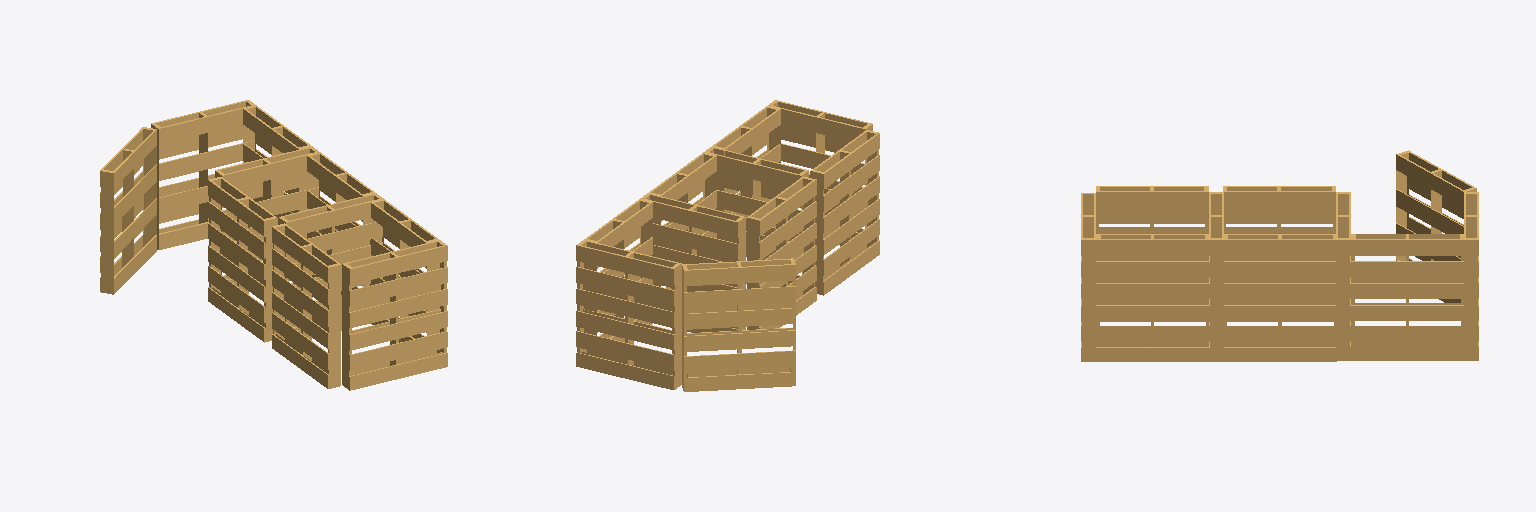
The model's file is compostboxes1.obj.
The picture shows the model from 3 angles: view 1: azimuth 30°, elevation 25°; view 2: azimuth 150°, elevation 25°; view 3: azimuth 270°, elevation 25°; orthographic projection.
Visible parts, largest first — view 1: Mesh2 pallet1975_06_21_12_24_09__0600_2 Compost_Bins1 Model, Mesh3 pallet1975_06_21_12_24_09__0600_3 Compost_Bins1 Model, Mesh6 pallet1975_06_21_12_24_09__0600_6 Compost_Bins1 Model, Mesh10 pallet1975_06_21_12_24_09__0600_10 Compost_Bins1 Model, Mesh9 pallet1975_06_21_12_24_09__0600_9 Compost_Bins1 Model, Mesh4 pallet1975_06_21_12_24_09__0600_4 Compost_Bins1 Model, Mesh7 pallet1975_06_21_12_24_09__0600_7 Compost_Bins1 Model, Mesh1 pallet1975_06_21_12_24_09__0600_1 Compost_Bins1 Model, Mesh5 pallet1975_06_21_12_24_09__0600_5 Compost_Bins1 Model, Mesh8 pallet1975_06_21_12_24_09__0600_8 Compost_Bins1 Model; view 2: Mesh9 pallet1975_06_21_12_24_09__0600_9 Compost_Bins1 Model, Mesh10 pallet1975_06_21_12_24_09__0600_10 Compost_Bins1 Model, Mesh3 pallet1975_06_21_12_24_09__0600_3 Compost_Bins1 Model, Mesh6 pallet1975_06_21_12_24_09__0600_6 Compost_Bins1 Model, Mesh7 pallet1975_06_21_12_24_09__0600_7 Compost_Bins1 Model, Mesh4 pallet1975_06_21_12_24_09__0600_4 Compost_Bins1 Model, Mesh2 pallet1975_06_21_12_24_09__0600_2 Compost_Bins1 Model, Mesh8 pallet1975_06_21_12_24_09__0600_8 Compost_Bins1 Model, Mesh1 pallet1975_06_21_12_24_09__0600_1 Compost_Bins1 Model, Mesh5 pallet1975_06_21_12_24_09__0600_5 Compost_Bins1 Model; view 3: Mesh1 pallet1975_06_21_12_24_09__0600_1 Compost_Bins1 Model, Mesh5 pallet1975_06_21_12_24_09__0600_5 Compost_Bins1 Model, Mesh8 pallet1975_06_21_12_24_09__0600_8 Compost_Bins1 Model, Mesh3 pallet1975_06_21_12_24_09__0600_3 Compost_Bins1 Model, Mesh6 pallet1975_06_21_12_24_09__0600_6 Compost_Bins1 Model, Mesh9 pallet1975_06_21_12_24_09__0600_9 Compost_Bins1 Model, Mesh4 pallet1975_06_21_12_24_09__0600_4 Compost_Bins1 Model, Mesh2 pallet1975_06_21_12_24_09__0600_2 Compost_Bins1 Model, Mesh10 pallet1975_06_21_12_24_09__0600_10 Compost_Bins1 Model, Mesh7 pallet1975_06_21_12_24_09__0600_7 Compost_Bins1 Model.
Part boxes in pixels (x1,y1,x2,y2): Mesh2 pallet1975_06_21_12_24_09__0600_2 Compost_Bins1 Model: (342,240,447,390); Mesh3 pallet1975_06_21_12_24_09__0600_3 Compost_Bins1 Model: (272,223,340,388); Mesh6 pallet1975_06_21_12_24_09__0600_6 Compost_Bins1 Model: (208,177,277,342); Mesh10 pallet1975_06_21_12_24_09__0600_10 Compost_Bins1 Model: (151,100,255,249); Mesh9 pallet1975_06_21_12_24_09__0600_9 Compost_Bins1 Model: (100,127,156,294); Mesh4 pallet1975_06_21_12_24_09__0600_4 Compost_Bins1 Model: (278,193,383,332); Mesh7 pallet1975_06_21_12_24_09__0600_7 Compost_Bins1 Model: (215,146,318,285); Mesh1 pallet1975_06_21_12_24_09__0600_1 Compost_Bins1 Model: (370,199,439,349); Mesh5 pallet1975_06_21_12_24_09__0600_5 Compost_Bins1 Model: (306,152,374,294); Mesh8 pallet1975_06_21_12_24_09__0600_8 Compost_Bins1 Model: (243,105,311,227); Mesh9 pallet1975_06_21_12_24_09__0600_9 Compost_Bins1 Model: (682,258,795,391); Mesh10 pallet1975_06_21_12_24_09__0600_10 Compost_Bins1 Model: (576,240,681,389); Mesh3 pallet1975_06_21_12_24_09__0600_3 Compost_Bins1 Model: (810,130,879,295); Mesh6 pallet1975_06_21_12_24_09__0600_6 Compost_Bins1 Model: (747,176,816,329); Mesh7 pallet1975_06_21_12_24_09__0600_7 Compost_Bins1 Model: (640,193,745,332); Mesh4 pallet1975_06_21_12_24_09__0600_4 Compost_Bins1 Model: (705,147,808,284); Mesh2 pallet1975_06_21_12_24_09__0600_2 Compost_Bins1 Model: (768,100,872,244); Mesh8 pallet1975_06_21_12_24_09__0600_8 Compost_Bins1 Model: (584,199,652,341); Mesh1 pallet1975_06_21_12_24_09__0600_1 Compost_Bins1 Model: (712,106,780,227); Mesh5 pallet1975_06_21_12_24_09__0600_5 Compost_Bins1 Model: (649,152,716,289); Mesh1 pallet1975_06_21_12_24_09__0600_1 Compost_Bins1 Model: (1096,234,1208,361); Mesh5 pallet1975_06_21_12_24_09__0600_5 Compost_Bins1 Model: (1224,234,1336,361); Mesh8 pallet1975_06_21_12_24_09__0600_8 Compost_Bins1 Model: (1351,234,1463,360); Mesh3 pallet1975_06_21_12_24_09__0600_3 Compost_Bins1 Model: (1096,186,1208,302); Mesh6 pallet1975_06_21_12_24_09__0600_6 Compost_Bins1 Model: (1223,186,1335,302); Mesh9 pallet1975_06_21_12_24_09__0600_9 Compost_Bins1 Model: (1396,150,1476,302); Mesh4 pallet1975_06_21_12_24_09__0600_4 Compost_Bins1 Model: (1209,192,1223,361); Mesh2 pallet1975_06_21_12_24_09__0600_2 Compost_Bins1 Model: (1081,193,1095,361); Mesh10 pallet1975_06_21_12_24_09__0600_10 Compost_Bins1 Model: (1464,192,1478,360); Mesh7 pallet1975_06_21_12_24_09__0600_7 Compost_Bins1 Model: (1336,192,1350,360).
Size of the model in its own units: 237 by 150 by 443.